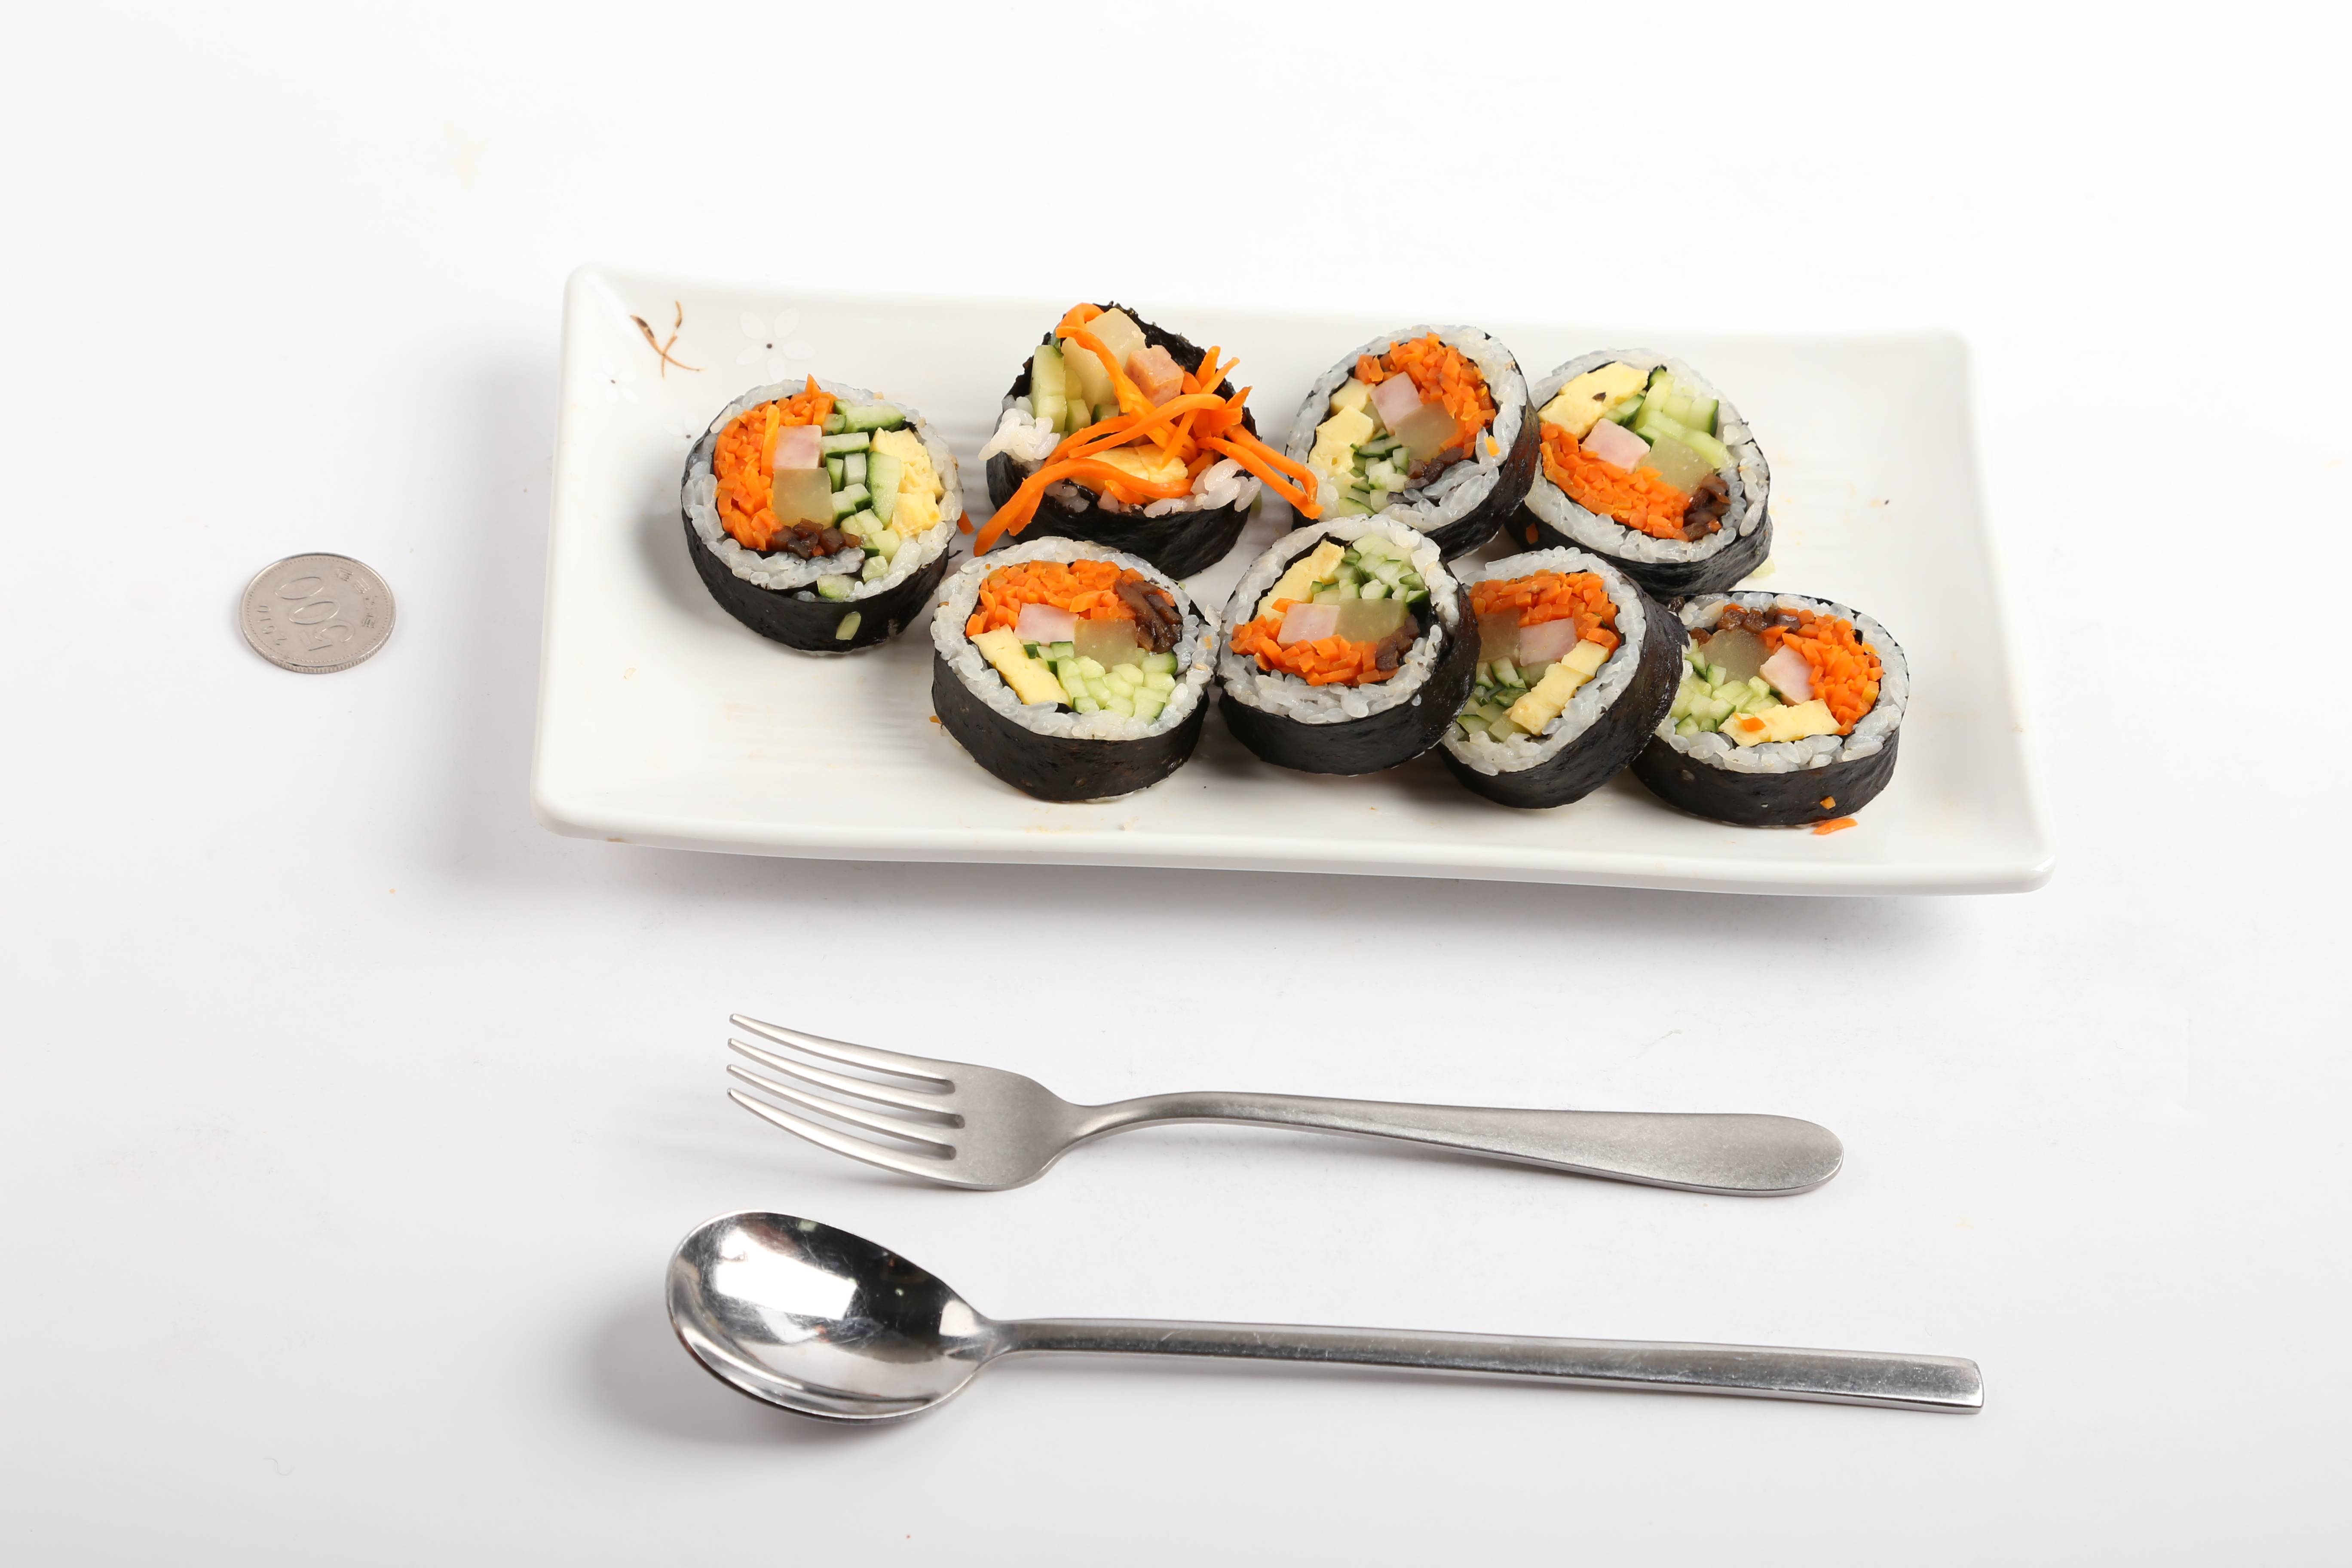dish: (521, 250, 2053, 905)
ref_coin: (227, 544, 399, 681)
ref_fork: (716, 1004, 1139, 1193)
ref_spoon: (658, 1204, 1081, 1431)
김밥: (672, 297, 1909, 829)
